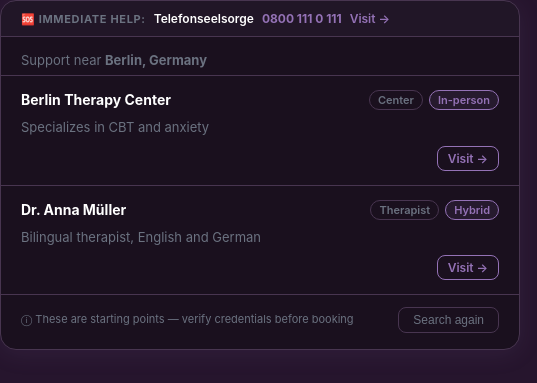
Test case: SupportWidget — results stage via initialResults › clicking 'Search again' returns to the form
Click the button "Search again" at (449, 320), box left=398, top=307, right=499, bottom=333
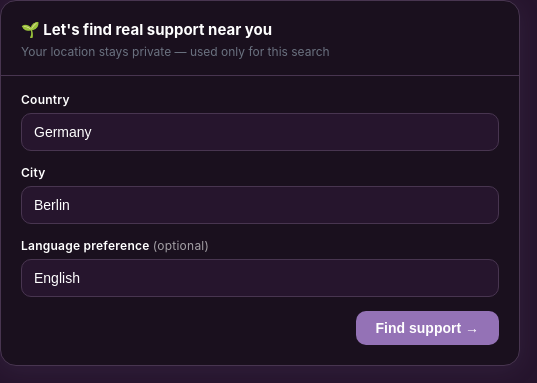
Check: the field labelled "Country" is shown, box left=21, top=113, right=499, bottom=151
